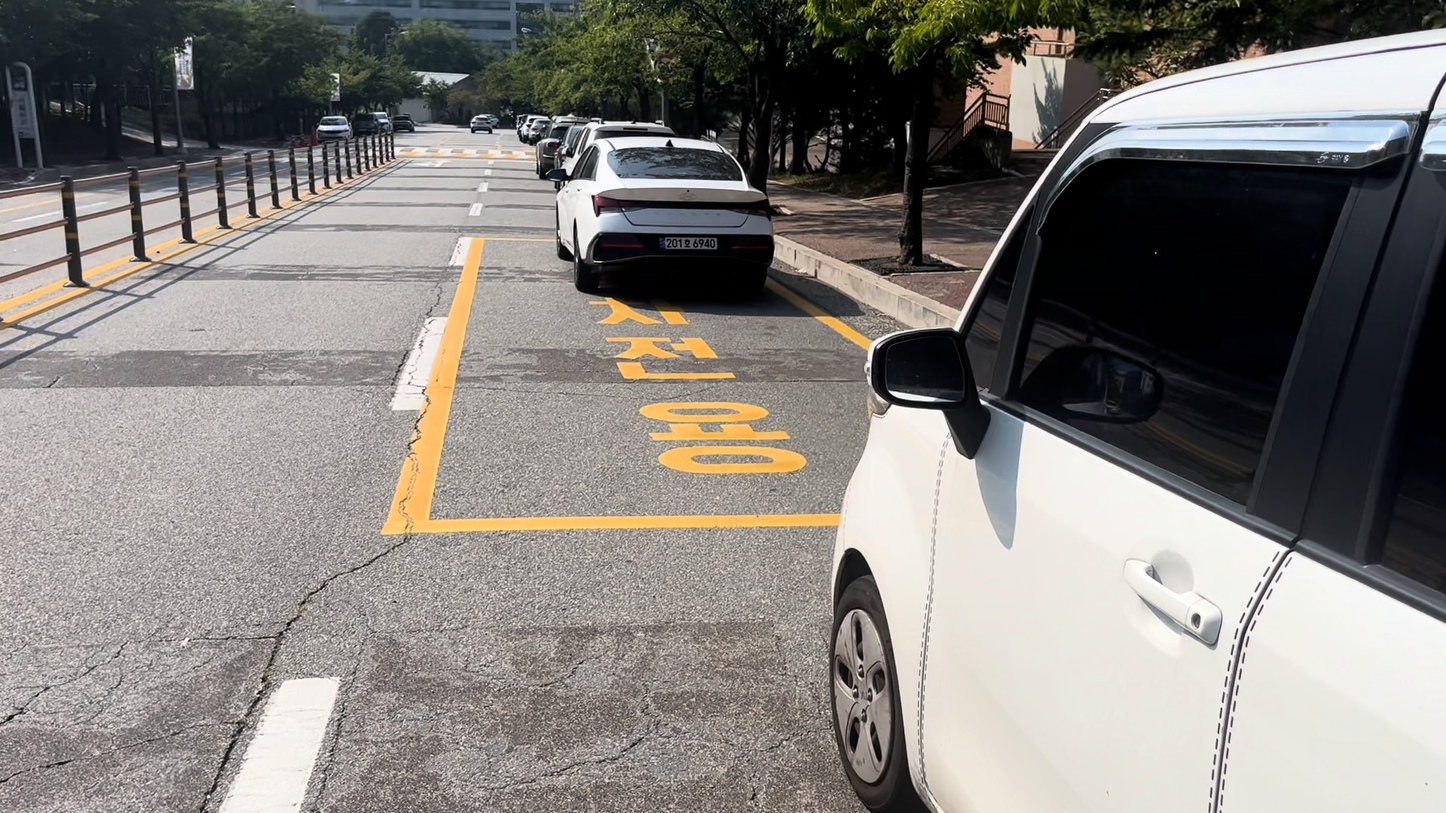door_handle: (1124, 559, 1222, 645)
side_mirror: (868, 328, 989, 458)
tail_light: (729, 198, 773, 218), (592, 195, 636, 215)
